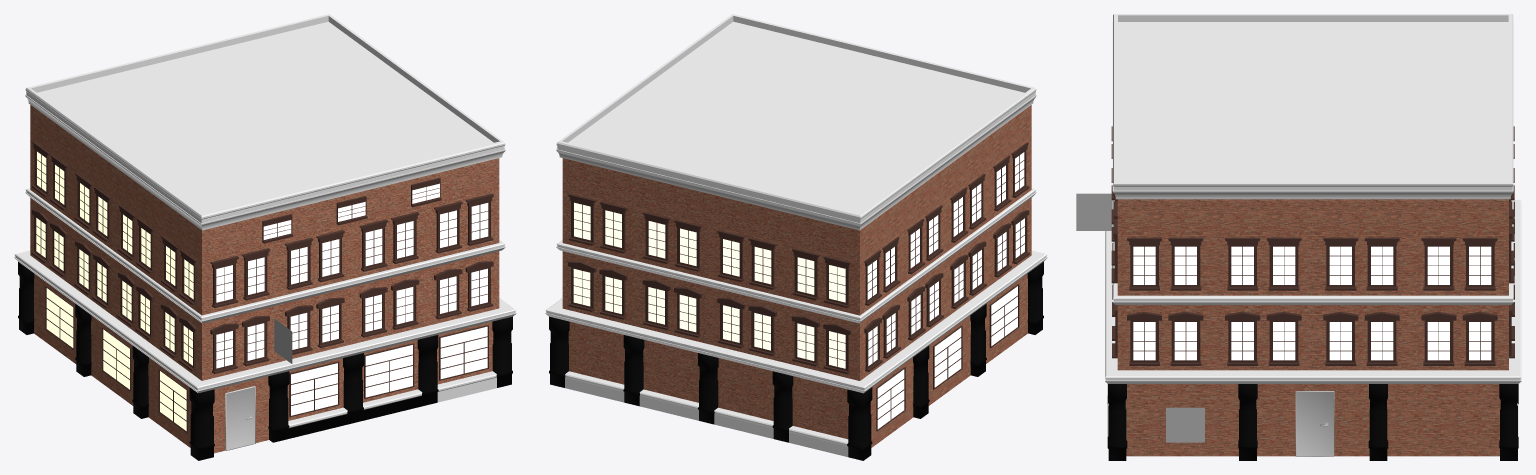
File: bar grande.fbx
3 views of the same model, side by side, from view 1: azimuth 30°, elevation 25°; view 2: azimuth 150°, elevation 25°; view 3: azimuth 270°, elevation 25° (orthographic). The views are drawn at different scales.
Visible parts, largest first — view 1: Cornisa3, Base, pilar, VentanasA, Ventanas4, Cube, Cornisa, Ventanas3, VentanasA2, Cornisa2, Cube.001, Ventanillas (+2 smaller); view 2: Cornisa3, Base, pilar, Ventanas2, VentanasA3, Cornisa, Ventanas3, VentanasA2, Cornisa2, Cube.001; view 3: Cornisa3, Base, VentanasA4, Ventanas, Cornisa, pilar, Cornisa2, Puerta.001, Plane.002, Plane.001, VentanasA, VentanasA3.
Part boxes in pixels (x1,y1,x2,y2): Cornisa3: [25, 14, 505, 230]; Base: [30, 105, 499, 453]; pilar: [18, 261, 512, 460]; VentanasA: [210, 193, 493, 307]; Ventanas4: [210, 261, 493, 373]; Cube: [289, 325, 488, 417]; Cornisa: [14, 250, 516, 393]; Ventanas3: [31, 209, 196, 371]; VentanasA2: [32, 142, 196, 305]; Cornisa2: [25, 188, 505, 323]; Cube.001: [45, 286, 188, 433]; Ventanillas: [262, 178, 441, 243]; Cornisa3: [556, 14, 1036, 230]; Base: [562, 105, 1031, 447]; pilar: [549, 261, 1043, 460]; Ventanas2: [568, 261, 851, 373]; VentanasA3: [568, 193, 851, 307]; Cornisa: [545, 250, 1047, 393]; Ventanas3: [864, 210, 1029, 371]; VentanasA2: [864, 142, 1029, 305]; Cornisa2: [556, 188, 1036, 323]; Cube.001: [876, 284, 1019, 431]; Cornisa3: [1112, 14, 1513, 199]; Base: [1117, 199, 1508, 456]; VentanasA4: [1127, 237, 1497, 290]; Ventanas: [1127, 311, 1497, 365]; Cornisa: [1105, 200, 1521, 383]; pilar: [1107, 384, 1518, 460]; Cornisa2: [1112, 200, 1513, 304]; Puerta.001: [1295, 391, 1334, 456]; Plane.002: [1166, 407, 1204, 442]; Plane.001: [1076, 193, 1112, 230]; VentanasA: [1111, 126, 1117, 283]; VentanasA3: [1509, 126, 1514, 283].
Bounding box in the file's own units: 2040 × 1479 × 2163.
